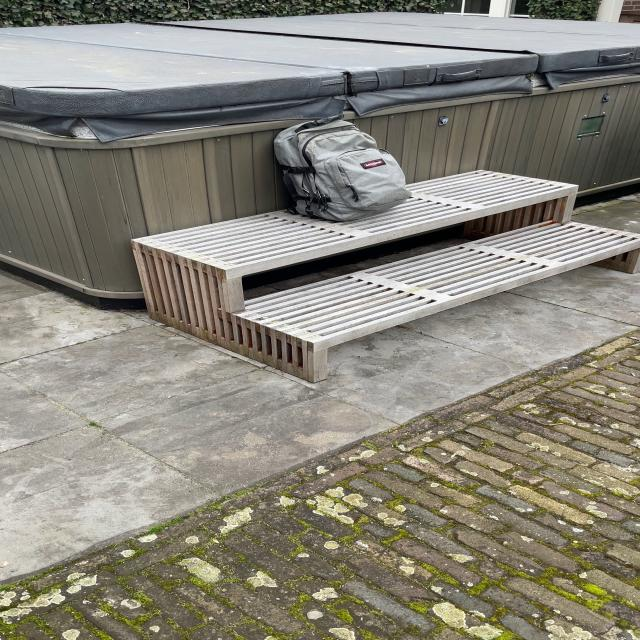backpack: (265, 114, 415, 223)
